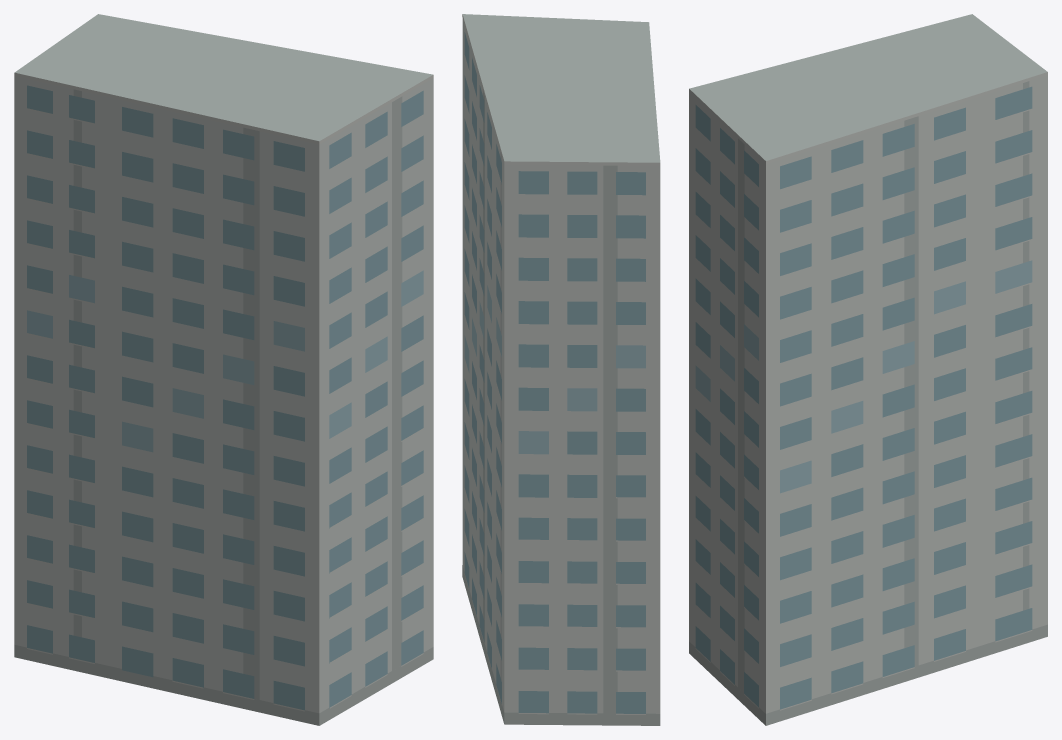
The model's file is residential-590d1865-1242-447e-af06-27ea574ded12.glb.
The picture shows the model from 3 angles, left to right: view 1: azimuth 30°, elevation 25°; view 2: azimuth 150°, elevation 25°; view 3: azimuth 270°, elevation 25°; orthographic projection. The views are drawn at different scales.
Visible parts, largest first — view 1: residential-590d1865-1242-447e-af06-27ea574ded12.tmp; view 2: residential-590d1865-1242-447e-af06-27ea574ded12.tmp; view 3: residential-590d1865-1242-447e-af06-27ea574ded12.tmp.
Part boxes in pixels (x1,y1,x2,y2): residential-590d1865-1242-447e-af06-27ea574ded12.tmp: (14,14,433,725); residential-590d1865-1242-447e-af06-27ea574ded12.tmp: (462,14,660,725); residential-590d1865-1242-447e-af06-27ea574ded12.tmp: (689,14,1047,725).
Bounding box in the file's own units: 23.49 × 42 × 24.19.
